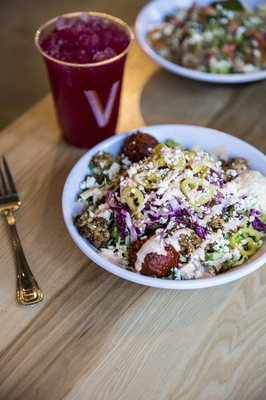pizza: (34, 11, 134, 149)
sushi: (61, 123, 265, 292), (134, 0, 266, 86)
